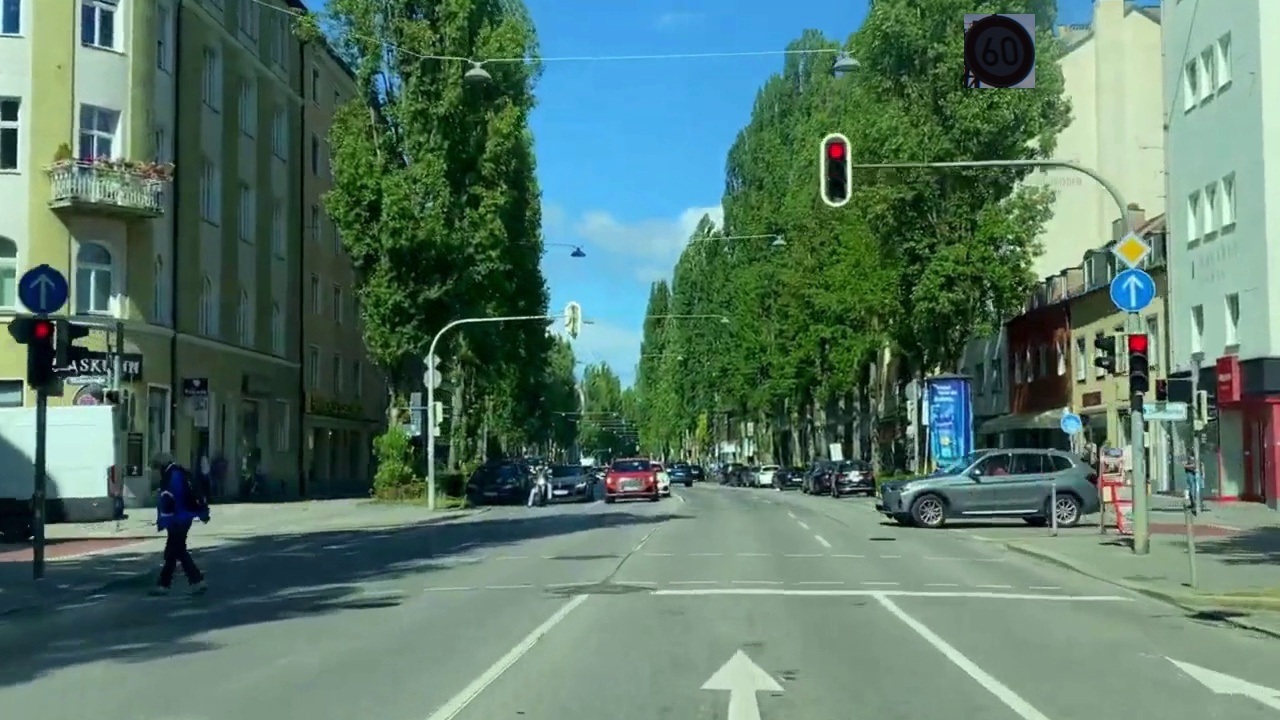Speed 60: (964, 14, 1035, 88)
